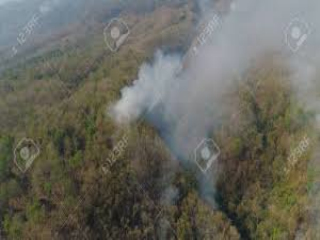smoke: (114, 24, 252, 212)
